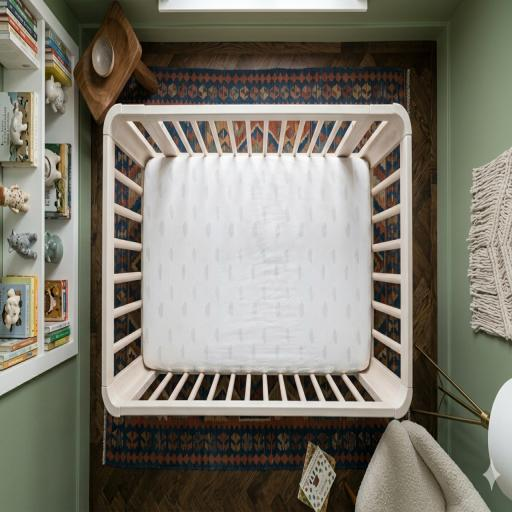crib: (102, 104, 412, 417)
